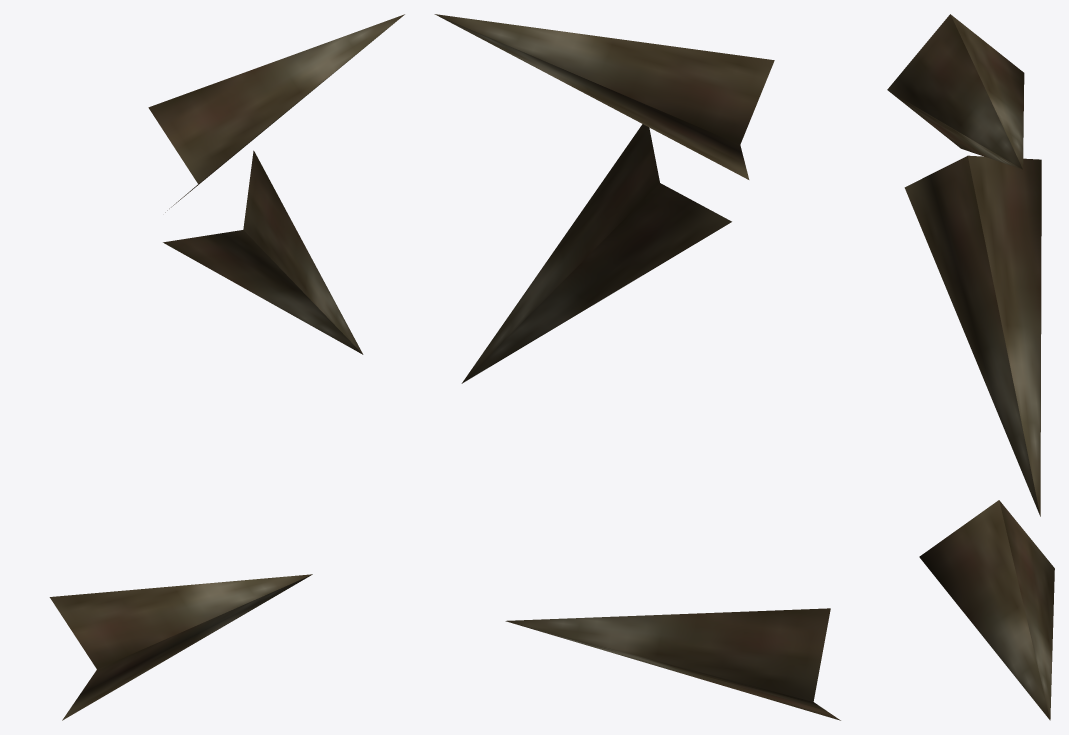
3 views of the same model, side by side, from view 1: azimuth 30°, elevation 25°; view 2: azimuth 150°, elevation 25°; view 3: azimuth 270°, elevation 25° (orthographic). The views are drawn at different scales.
Parts seen in each view (by area): view 1: model_Object50; view 2: model_Object50; view 3: model_Object50.
Part boxes in pixels (bbox=[...]): model_Object50: bbox=[49, 14, 404, 720]; model_Object50: bbox=[434, 14, 840, 720]; model_Object50: bbox=[887, 14, 1054, 720].
Size of the model in its own units: 0.9339 by 1.43 by 0.334.
1 material, 1 textured.
